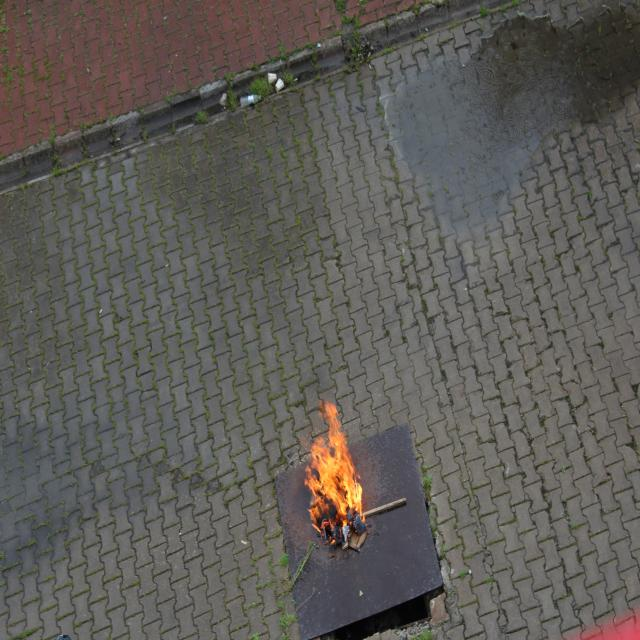fire: (292, 393, 367, 565)
